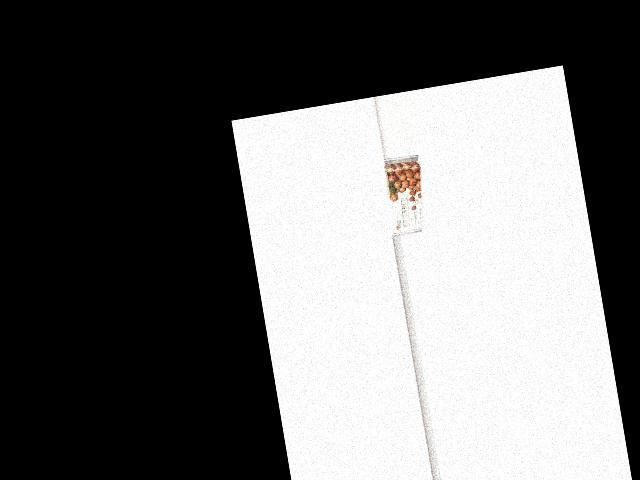chocolate: (382, 154, 431, 236)
